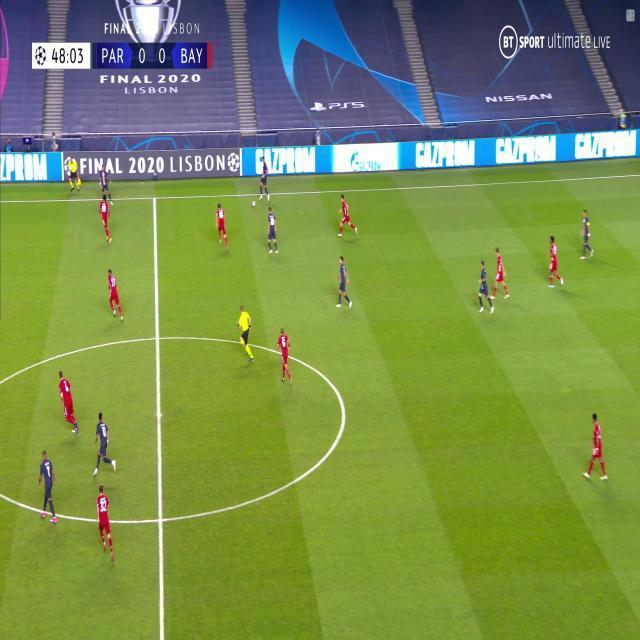ball: (252, 199, 257, 208)
player: (583, 411, 609, 484), (95, 484, 116, 564), (92, 411, 117, 477), (37, 449, 57, 525), (56, 370, 79, 435), (0, 0, 11, 111), (105, 268, 125, 322), (336, 194, 358, 239), (476, 260, 494, 315), (492, 247, 510, 302), (276, 328, 293, 386), (546, 235, 564, 289), (334, 255, 352, 309), (215, 202, 231, 253), (579, 209, 594, 261), (98, 193, 113, 243), (257, 156, 270, 203), (266, 207, 278, 257), (98, 167, 114, 203)
referee: (236, 305, 254, 363), (67, 156, 81, 193)
